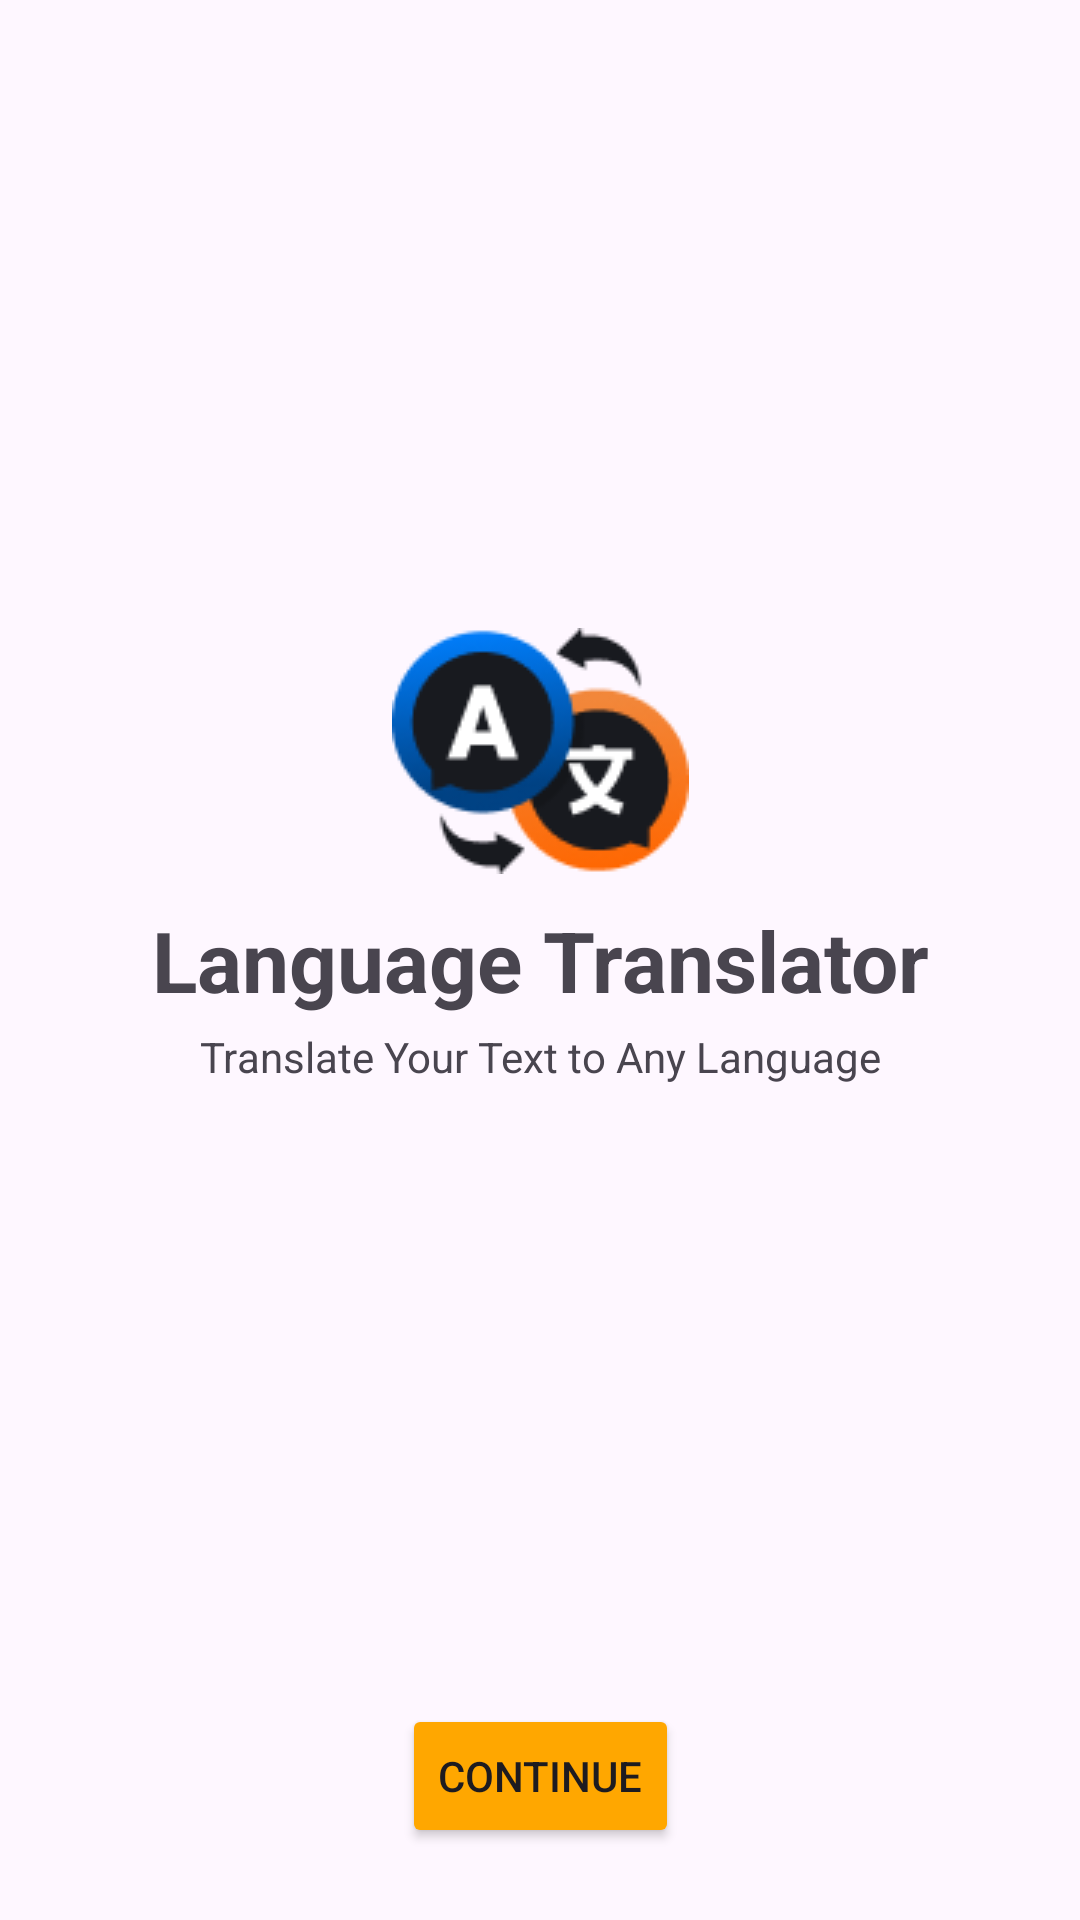

Screen size 1080w x 1920h. Icon name, then its box in pixels as {"left": x1, "top": y1, "right": x2, "bottom": y2}:
app: {"left": 392, "top": 628, "right": 689, "bottom": 874}
